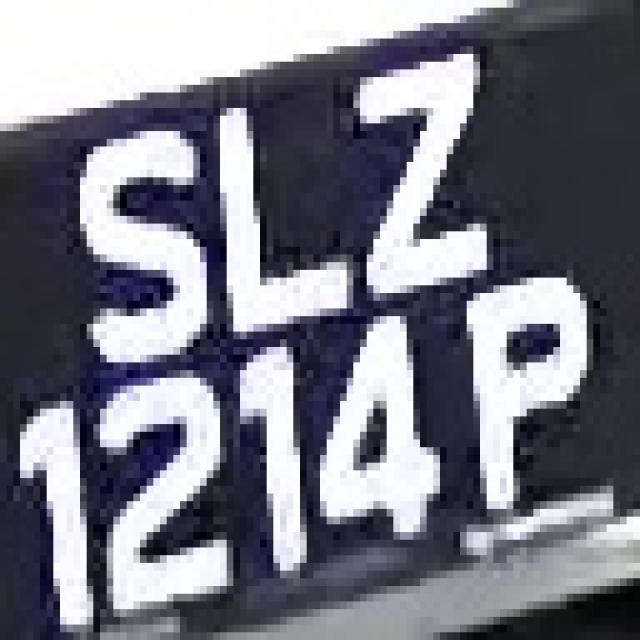1: (227, 316, 333, 617), (7, 362, 93, 632)
2: (80, 378, 253, 617)
4: (293, 293, 427, 578)
L: (173, 93, 347, 354)
P: (467, 255, 600, 532)
S: (53, 108, 207, 385)
Z: (320, 31, 493, 316)
